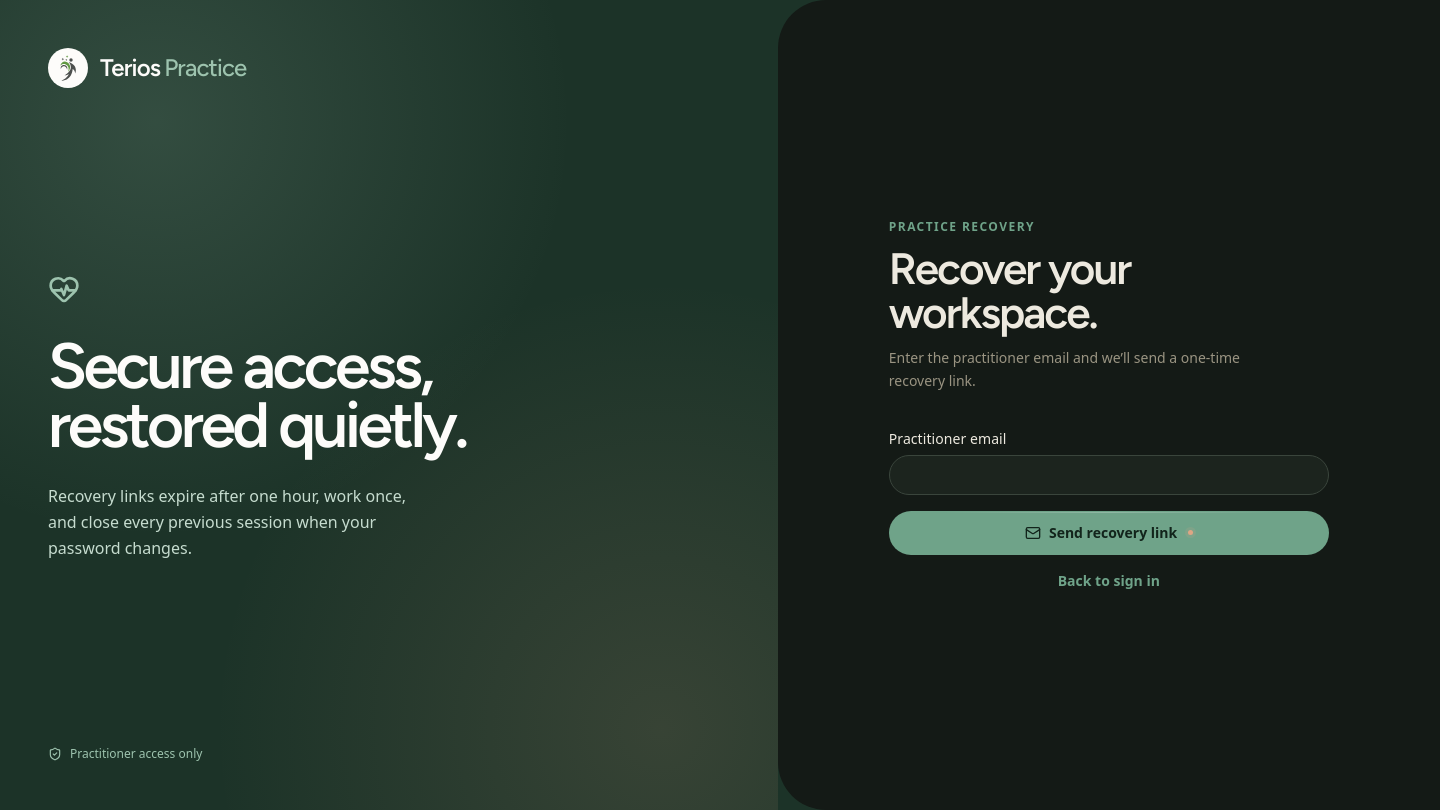
Test case: practitioner password recovery request › clears the error as soon as the practitioner starts fixing it
This screenshot has width=1440, height=810.
Type "nope" into the field labelled "Practitioner email" at coordinates (1109, 475), box top-left (889, 455), bottom-right (1329, 495)
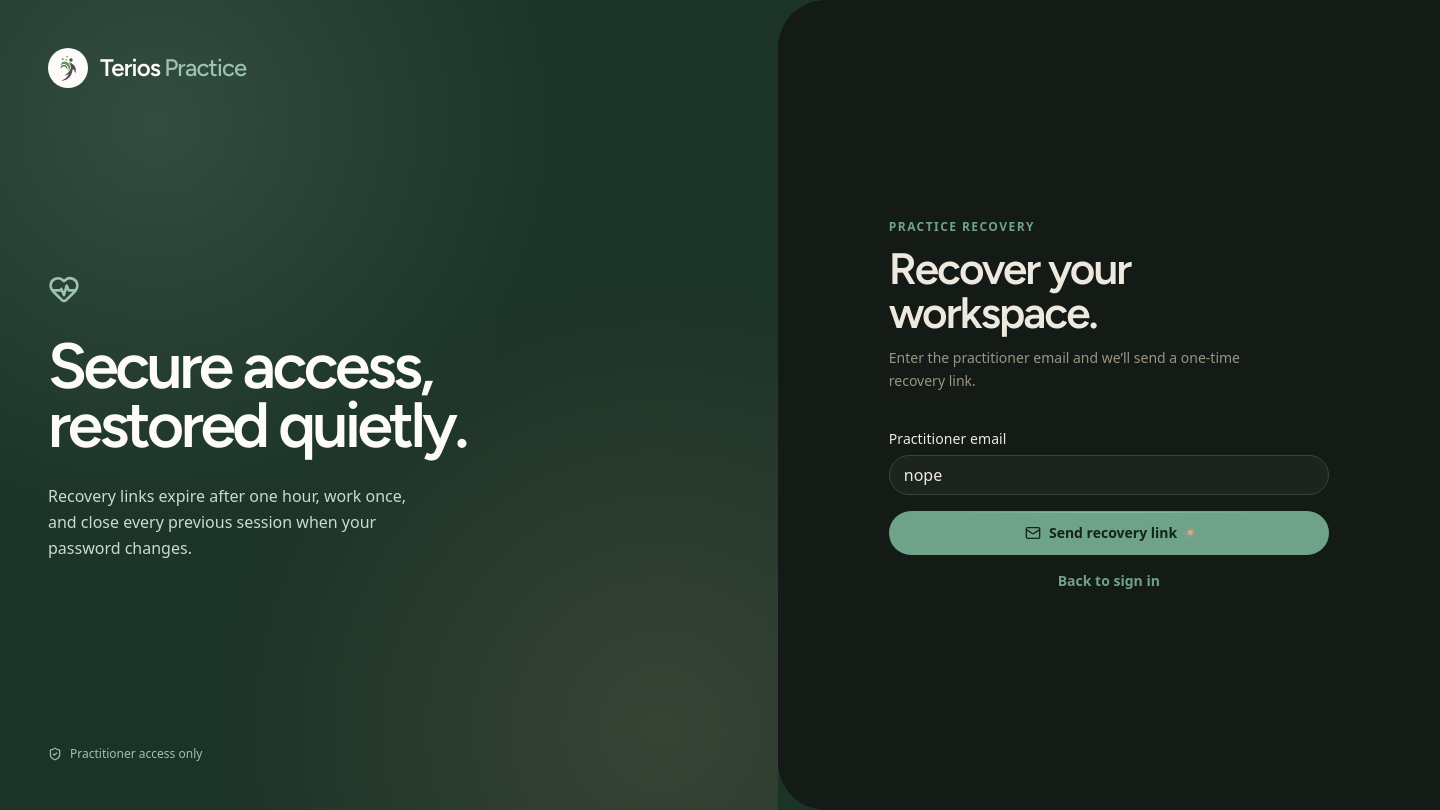
Click the button "Send recovery link" at coordinates (1109, 533), box top-left (889, 511), bottom-right (1329, 555)
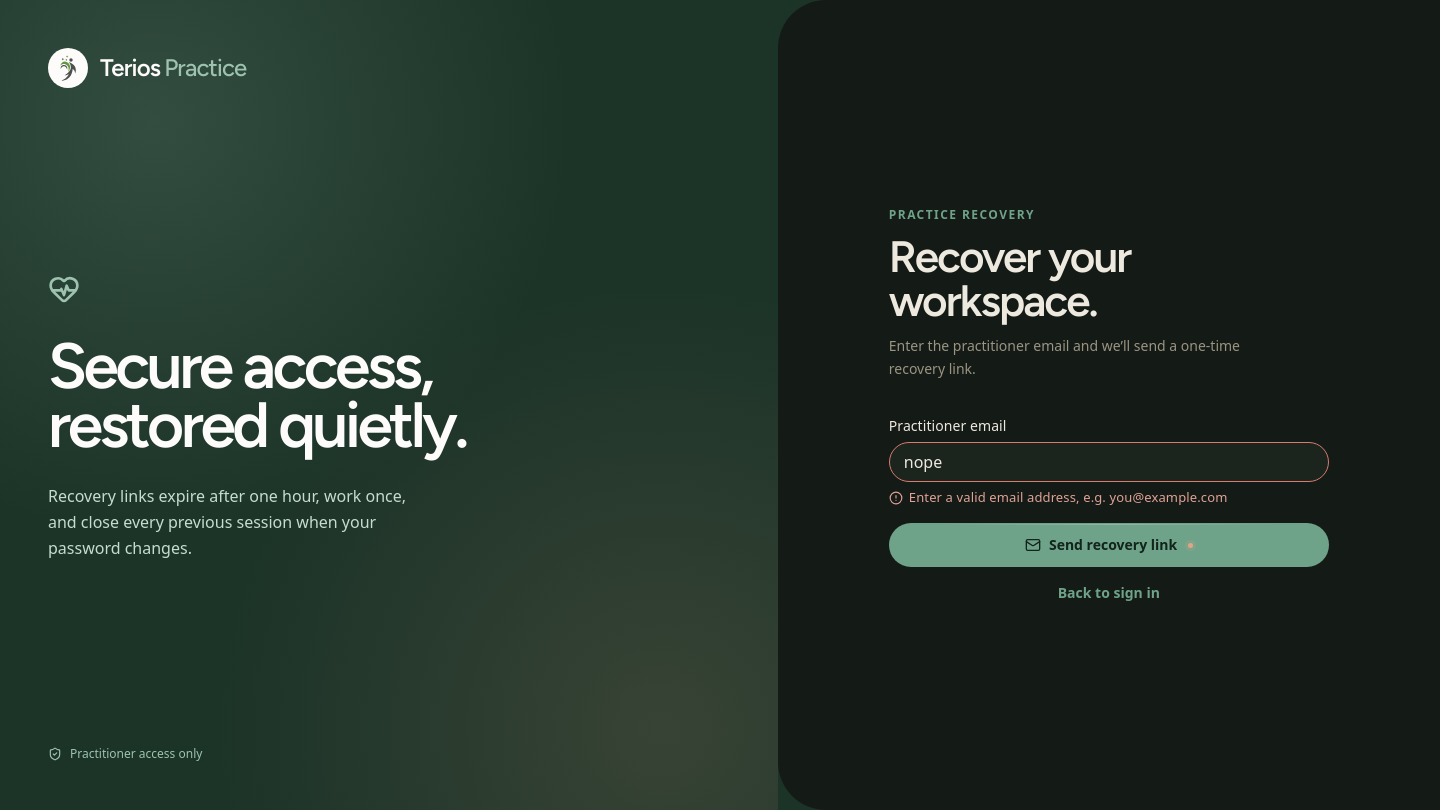
Check: the message "Enter a valid email address, e.g. you@example.com" is shown, box top-left (889, 488), bottom-right (1228, 506)
Replace the text in the field labelled "Practitioner email" with "practice@example.com" at coordinates (1109, 462), box top-left (889, 442), bottom-right (1329, 482)
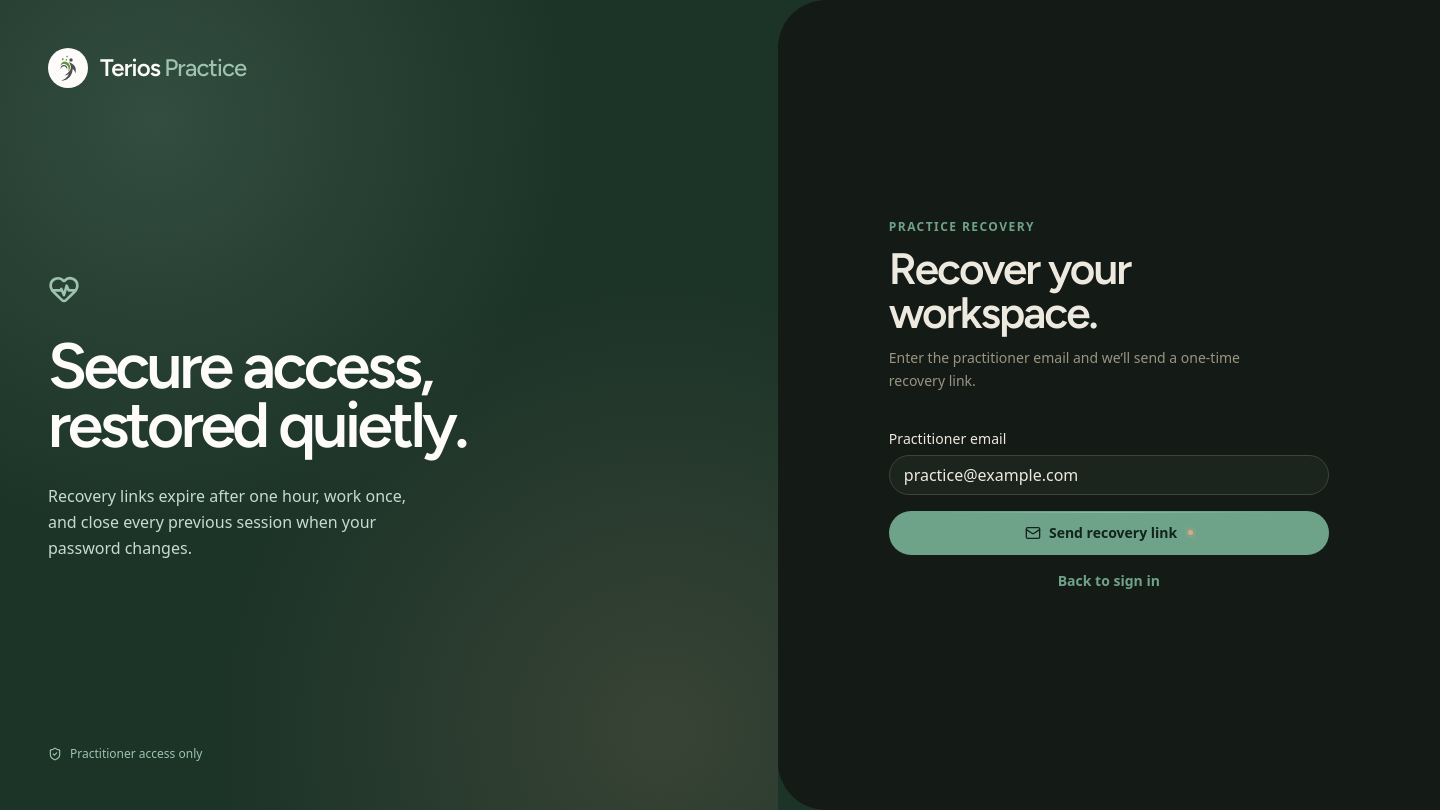
Check: the message "Enter a valid email address, e.g. you@example.com" is gone
